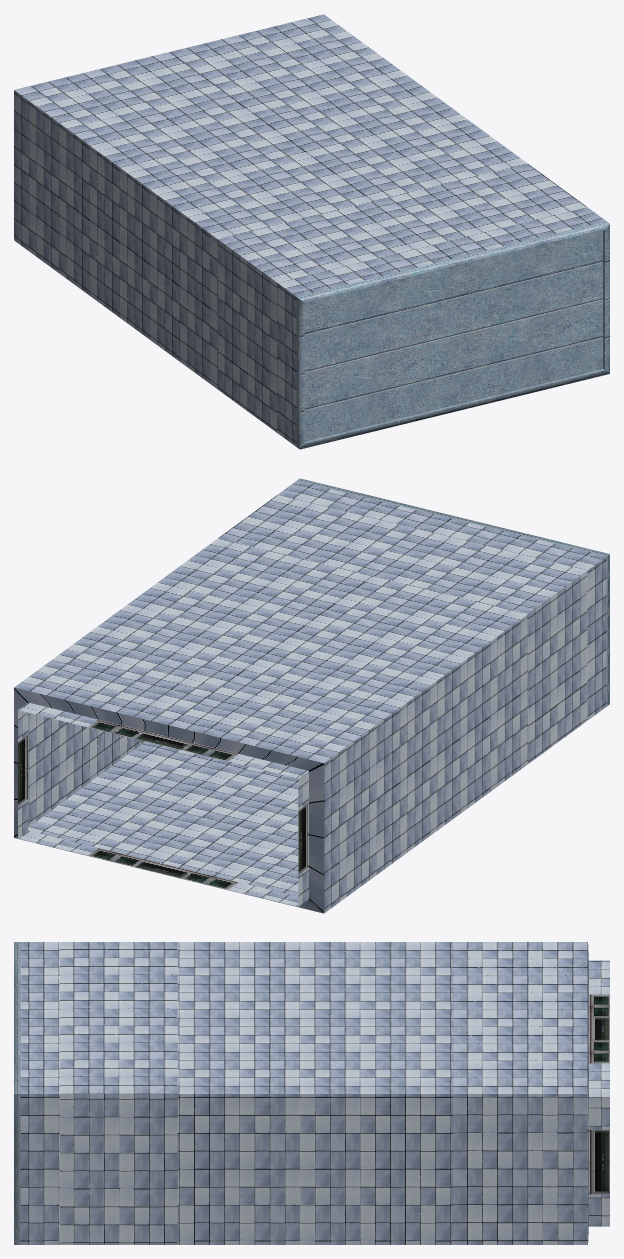
Rendered from skyscraper_windowG_02.obj.
The picture shows the model from 3 angles, top to bottom: view 1: azimuth 30°, elevation 25°; view 2: azimuth 150°, elevation 25°; view 3: azimuth 270°, elevation 25°; orthographic projection.
Visible parts, largest first — view 1: Object25; view 2: Object25; view 3: Object25.
Part boxes in pixels (x1,y1,x2,y2): Object25: [14, 14, 609, 449]; Object25: [14, 478, 609, 913]; Object25: [14, 942, 609, 1244].
Bounding box in the file's own units: 76.66 × 35.51 × 127.
Materials: 3 (3 with a texture image).
